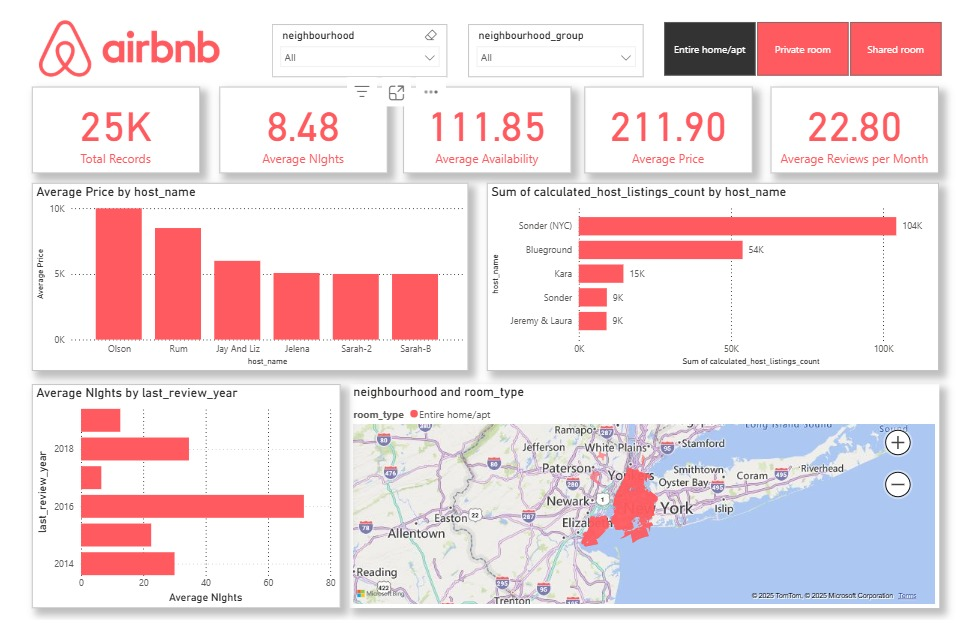

Layout of this report page (visuals, bound fields, positions):
{"tool":"powerbi","page":{"name":"Page 1","canvas":[1280,810],"ordinal":0},"visuals":[{"type":"card","fields":{"Values":["output.Total Records"]},"box":[33.8,98.8,223.8,115],"z":0},{"type":"card","fields":{"Values":["output.Average NIghts"]},"box":[282.5,98.8,223.8,115],"z":1000},{"type":"card","fields":{"Values":["output.Average Price"]},"box":[770,98.8,223.8,115],"z":2000},{"type":"card","fields":{"Values":["output.Average Availability"]},"box":[527.5,98.8,223.8,115],"z":3000},{"type":"card","fields":{"Values":["output.Average Reviews per Month"]},"box":[1018.8,98.8,223.8,115],"z":4000},{"type":"slicer","fields":{"Values":["output.room_type"]},"box":[850,5,420,85],"z":5000},{"type":"slicer","fields":{"Values":["output.neighbourhood"]},"box":[352.5,15,233.8,70],"z":6000},{"type":"slicer","fields":{"Values":["output.neighbourhood_group"]},"box":[615,15,233.8,70],"z":7000},{"type":"filledMap","fields":{"Category":["output.neighbourhood"],"Series":["output.room_type"]},"box":[456.2,495,786.2,298.8],"z":8000},{"type":"barChart","fields":{"Category":["output.host_name"],"Y":["Sum(output.calculated_host_listings_count)"]},"box":[640,226.2,602.5,250],"z":9000},{"type":"columnChart","fields":{"Category":["output.host_name"],"Y":["output.Average Price"]},"box":[33.8,226.2,581.2,250],"z":10000},{"type":"barChart","fields":{"Y":["output.Average NIghts"],"Category":["output.last_review_year"]},"box":[33.8,495,411.2,298.8],"z":11000},{"type":"image","box":[25,5,276.2,85],"z":12000}]}

Visuals, with their boxes in screenshot pixels (x1, y1, x2, y2), scaled from the page's 1280x810 canvas onto the 975x633 screenshot:
card - output.Total Records: l=26, t=77, r=196, b=167
card - output.Average NIghts: l=215, t=77, r=386, b=167
card - output.Average Price: l=587, t=77, r=757, b=167
card - output.Average Availability: l=402, t=77, r=572, b=167
card - output.Average Reviews per Month: l=776, t=77, r=947, b=167
slicer - output.room_type: l=647, t=4, r=967, b=70
slicer - output.neighbourhood: l=269, t=12, r=447, b=66
slicer - output.neighbourhood_group: l=468, t=12, r=647, b=66
filledMap - output.neighbourhood x output.room_type: l=347, t=387, r=946, b=620
barChart - output.host_name x Sum(output.calculated_host_listings_count): l=488, t=177, r=946, b=372
columnChart - output.host_name x output.Average Price: l=26, t=177, r=468, b=372
barChart - output.Average NIghts x output.last_review_year: l=26, t=387, r=339, b=620
image: l=19, t=4, r=229, b=70
